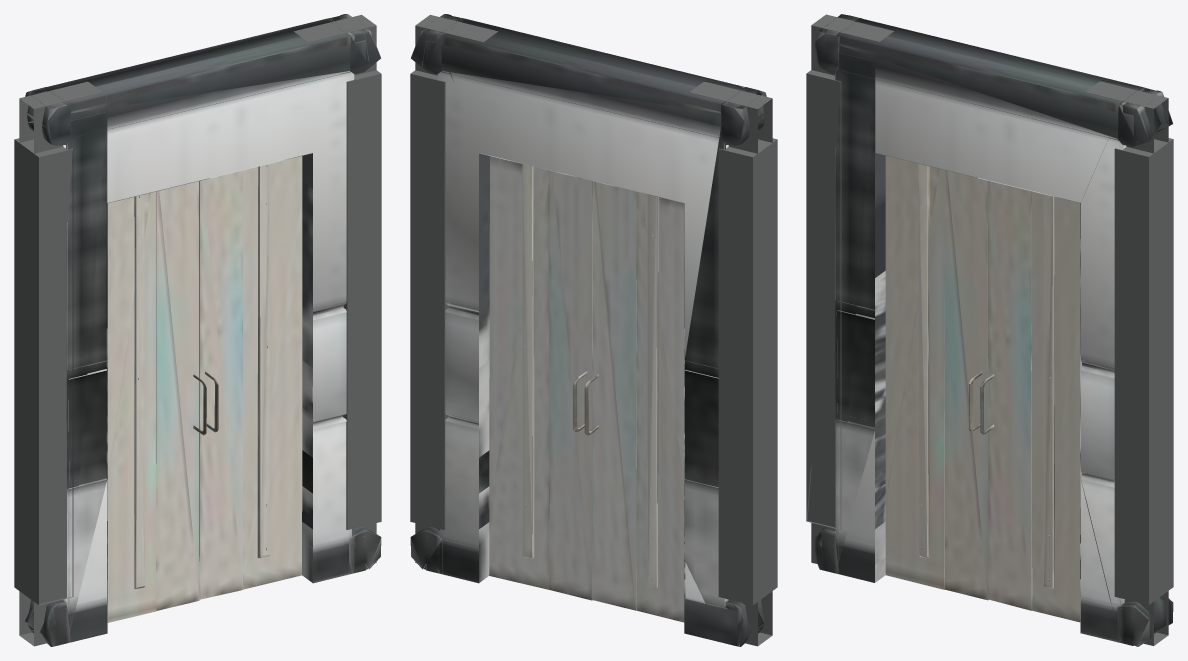
The model's file is wall-door.lod1.glb.
3 views of the same model, side by side, from view 1: azimuth 30°, elevation 25°; view 2: azimuth 150°, elevation 25°; view 3: azimuth 330°, elevation 25° (orthographic).
Size of the model in its own units: 2 by 3 by 0.3.
2 materials, 2 textured.
